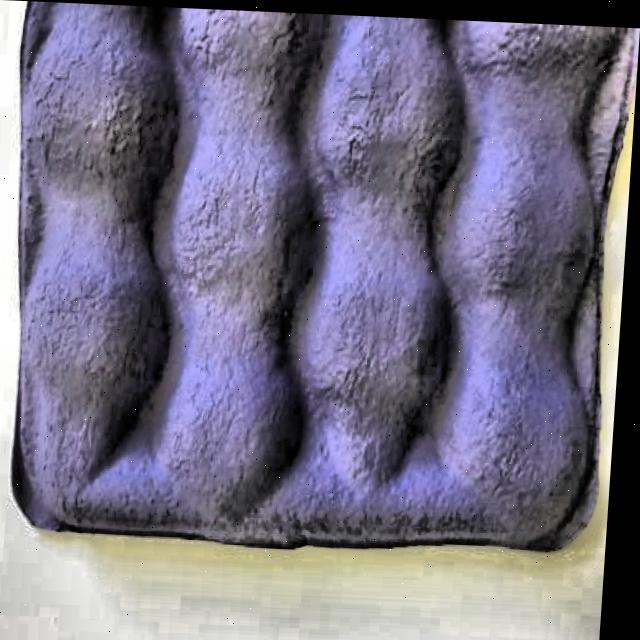paper: (0, 2, 640, 564)
